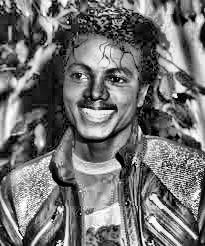happy: (53, 14, 194, 206)
